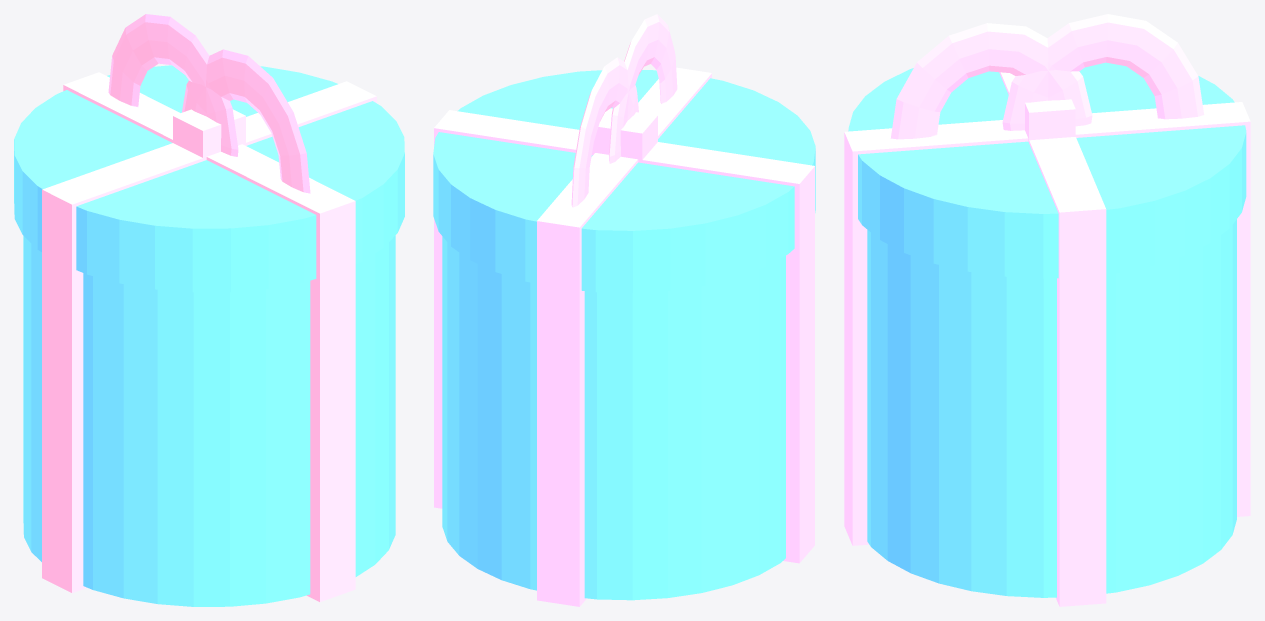
File: Tmpl_Round_Root_242.glb
The picture shows the model from 3 angles, left to right: view 1: azimuth 30°, elevation 25°; view 2: azimuth 150°, elevation 25°; view 3: azimuth 270°, elevation 25°; orthographic projection. The views are drawn at different scales.
Visible parts, largest first — view 1: Tmpl_Round_Base.240, Tmpl_Round_Lid.240, Tmpl_Round_Ribbon_X.240, Tmpl_Round_Ribbon_Y.240, Tmpl_Round_BowL.240, Tmpl_Round_BowR.240, Tmpl_Round_BowKnot.240; view 2: Tmpl_Round_Base.240, Tmpl_Round_Lid.240, Tmpl_Round_Ribbon_X.240, Tmpl_Round_Ribbon_Y.240, Tmpl_Round_BowR.240, Tmpl_Round_BowL.240, Tmpl_Round_BowKnot.240; view 3: Tmpl_Round_Base.240, Tmpl_Round_Lid.240, Tmpl_Round_Ribbon_Y.240, Tmpl_Round_Ribbon_X.240, Tmpl_Round_BowL.240, Tmpl_Round_BowR.240, Tmpl_Round_BowKnot.240.
Part boxes in pixels (x1,y1,x2,y2): Tmpl_Round_Base.240: (23, 235, 395, 606); Tmpl_Round_Lid.240: (14, 65, 404, 292); Tmpl_Round_Ribbon_X.240: (63, 72, 355, 601); Tmpl_Round_Ribbon_Y.240: (42, 81, 376, 593); Tmpl_Round_BowL.240: (108, 14, 238, 156); Tmpl_Round_BowR.240: (182, 49, 310, 193); Tmpl_Round_BowKnot.240: (173, 109, 245, 160); Tmpl_Round_Base.240: (442, 236, 785, 600); Tmpl_Round_Lid.240: (433, 70, 815, 292); Tmpl_Round_Ribbon_X.240: (537, 67, 711, 606); Tmpl_Round_Ribbon_Y.240: (434, 110, 814, 563); Tmpl_Round_BowR.240: (608, 14, 677, 163); Tmpl_Round_BowL.240: (571, 57, 638, 207); Tmpl_Round_BowKnot.240: (592, 108, 657, 162); Tmpl_Round_Base.240: (867, 219, 1236, 597); Tmpl_Round_Lid.240: (848, 62, 1246, 278); Tmpl_Round_Ribbon_Y.240: (999, 72, 1106, 606); Tmpl_Round_Ribbon_X.240: (844, 102, 1250, 545); Tmpl_Round_BowL.240: (1002, 14, 1204, 130); Tmpl_Round_BowR.240: (890, 23, 1092, 139); Tmpl_Round_BowKnot.240: (1025, 99, 1075, 141).
Bounding box in the file's own units: 0.8079 × 1.1 × 0.8079.
